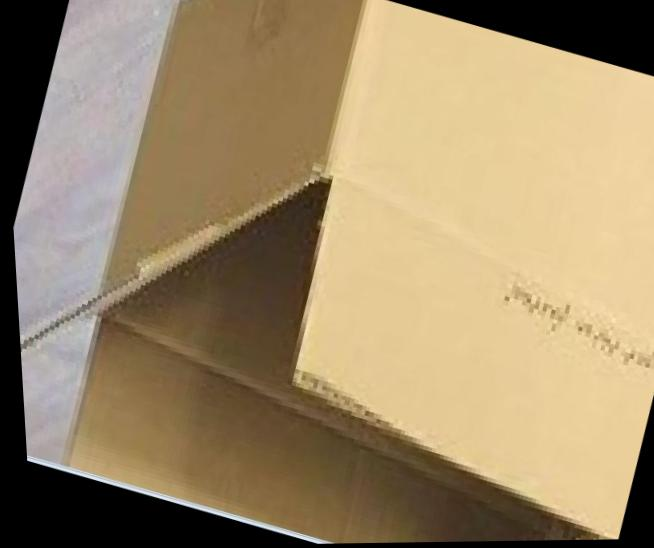cardboard: (15, 0, 653, 544)
